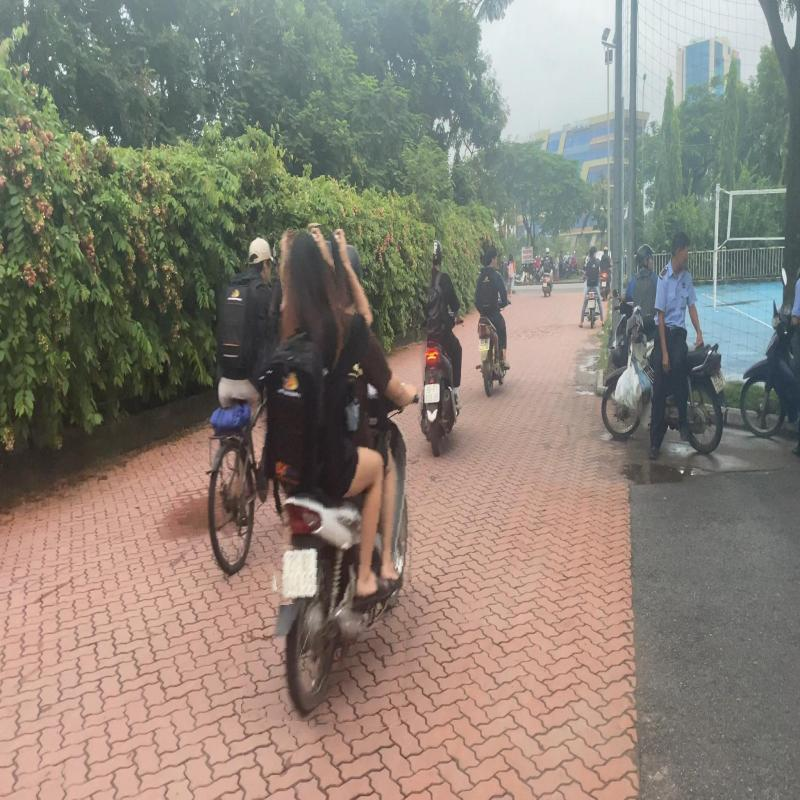licenseplate: (274, 543, 324, 604)
motorcyclist: (250, 215, 426, 726)
nohelmet: (276, 226, 340, 334)
